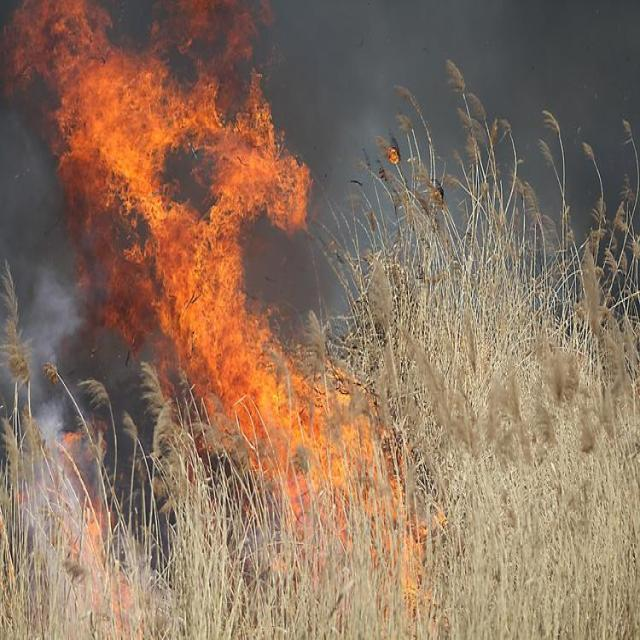Fire: (2, 0, 314, 412)
